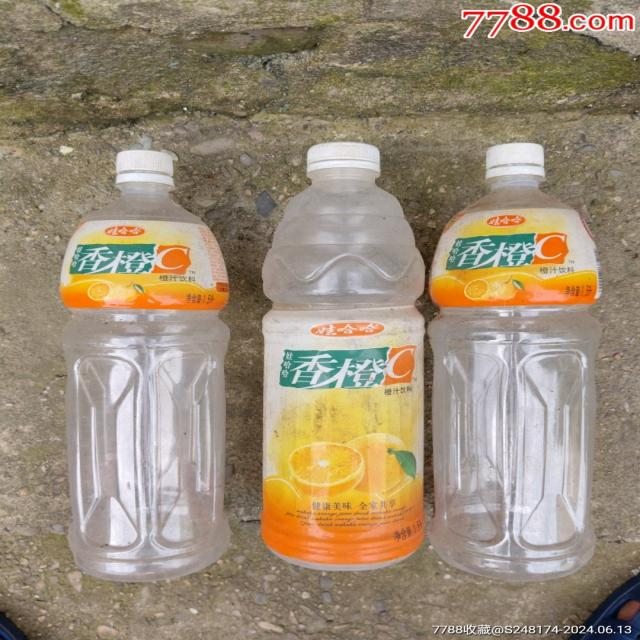bottle: (424, 140, 603, 586), (62, 148, 235, 588), (255, 140, 428, 572), (61, 141, 233, 315), (431, 144, 606, 312)
